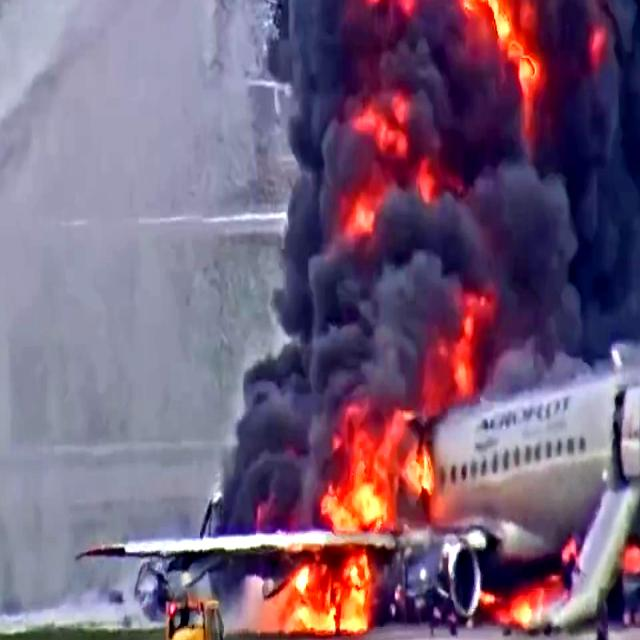fire: (338, 416, 404, 520), (304, 564, 364, 626)
smoke: (268, 0, 640, 334)
